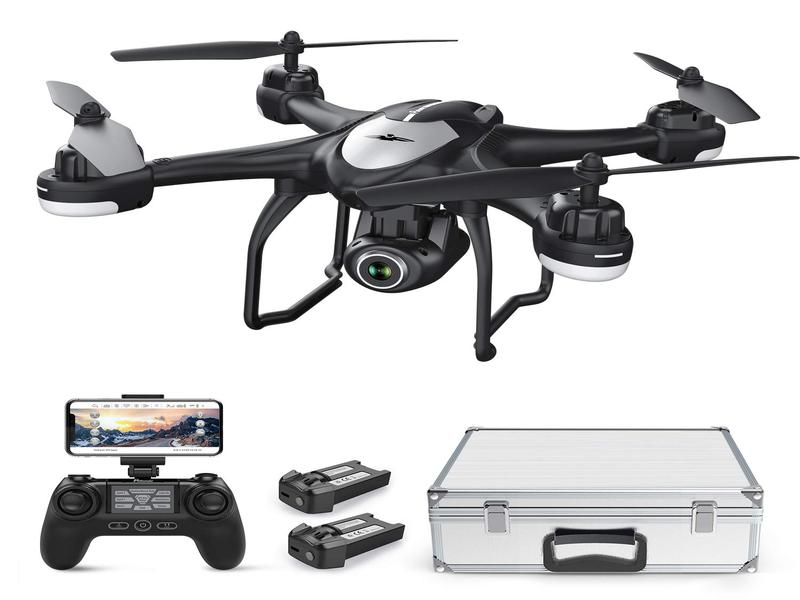enemy: (41, 56, 733, 338)
